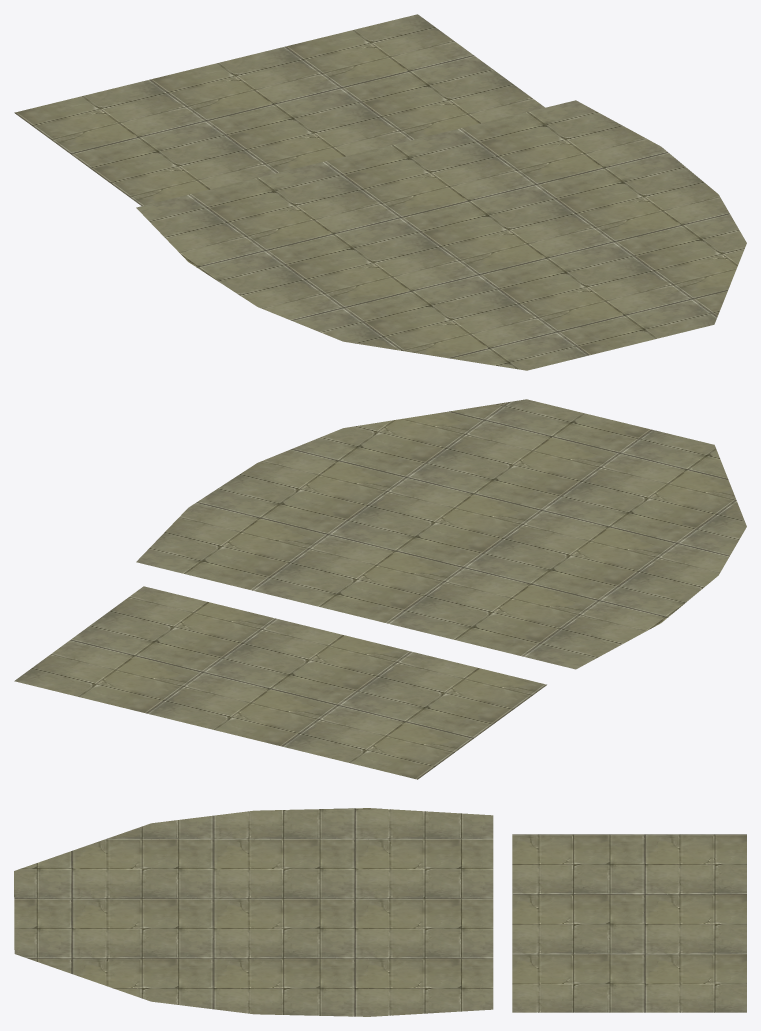
Rendered from GW_ZhuChenfanshe_001.FBX.
The picture shows the model from 3 angles, top to bottom: view 1: azimuth 30°, elevation 25°; view 2: azimuth 150°, elevation 25°; view 3: azimuth 270°, elevation 25°; orthographic projection. The views are drawn at different scales.
Parts seen in each view (by area): view 1: GW_ZhuChenfanshe_001; view 2: GW_ZhuChenfanshe_001; view 3: GW_ZhuChenfanshe_001.
Part boxes in pixels (x1,y1,x2,y2): GW_ZhuChenfanshe_001: (14,14,746,370); GW_ZhuChenfanshe_001: (14,399,746,779); GW_ZhuChenfanshe_001: (14,808,746,1016).
Bounding box in the file's own units: 2365 × 57.68 × 3506.
Materials: 1 (1 with a texture image).
